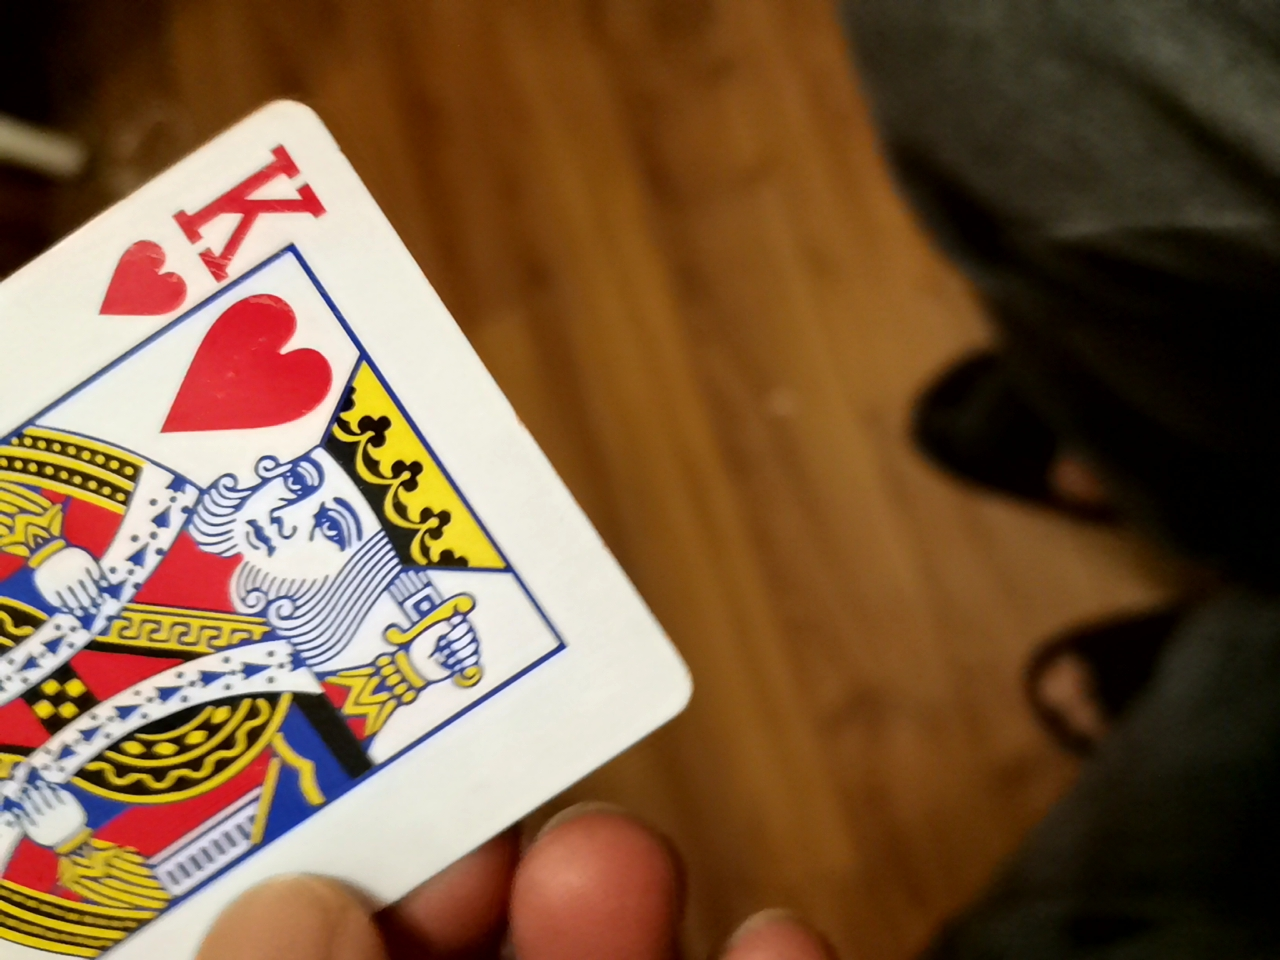hx k: (17, 81, 705, 960)
